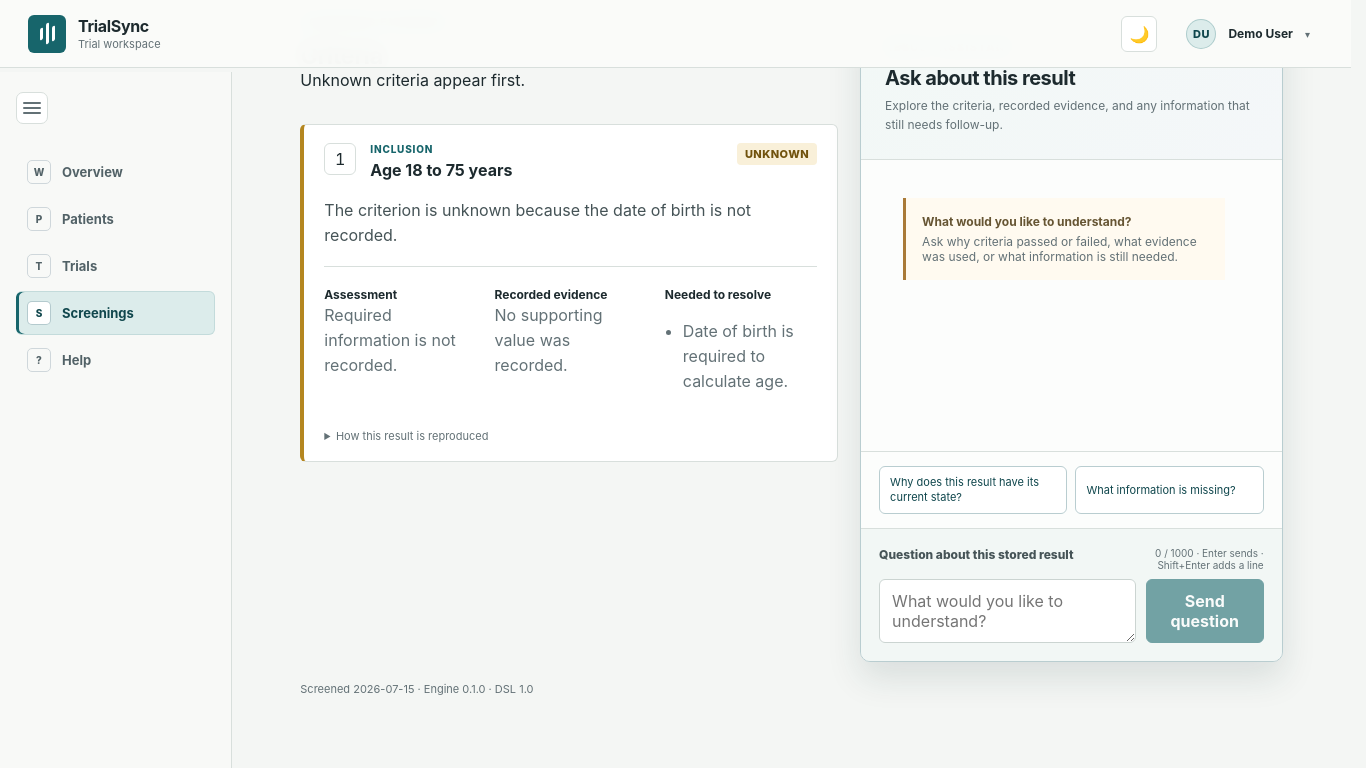
Test: TrialSync Phase 5 screening workflow › posts only the current question and appends the grounded response
The image size is (1366, 768).
(page scrolled)
Type "Why is age unresolved?" into the text box labelled "Question about this stored result" at (1007, 611), box [879, 579, 1136, 643]
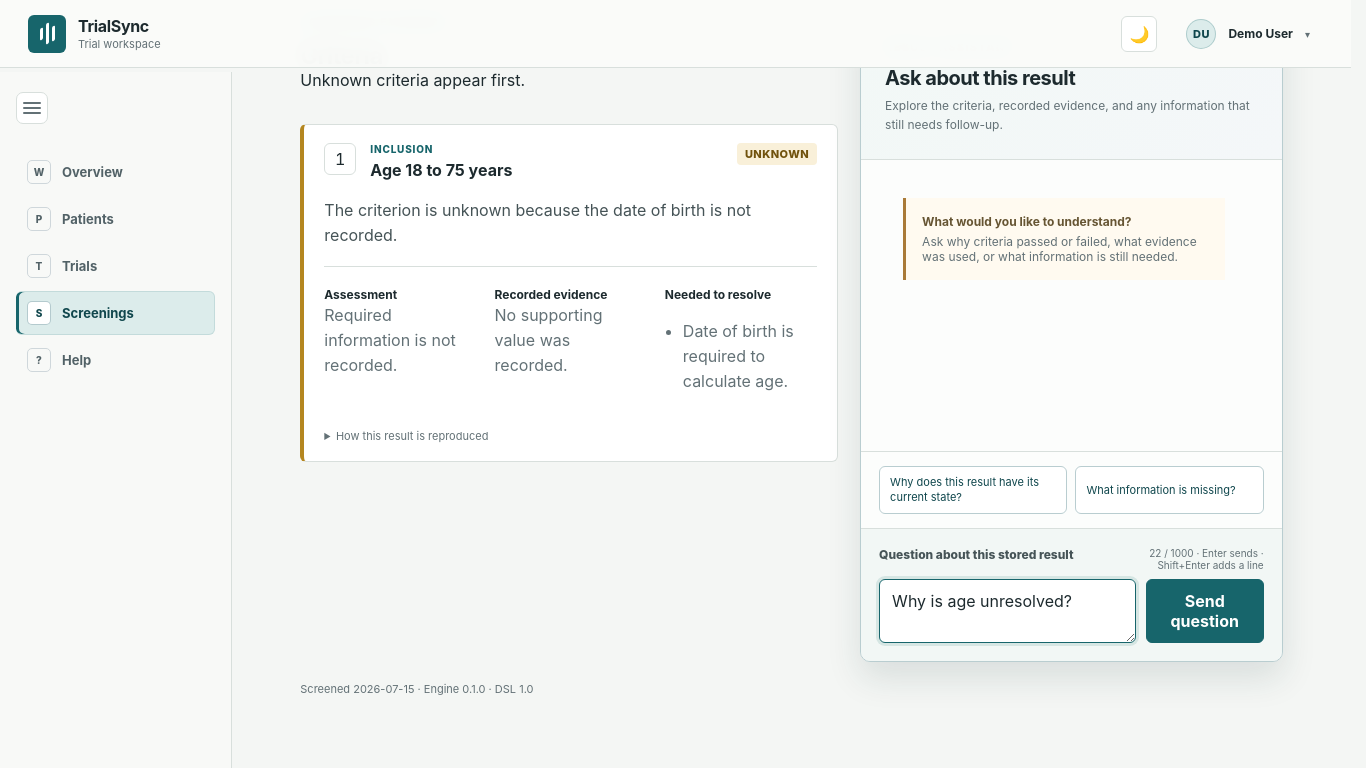
Click the button "Send question" at (1205, 611), box [1146, 579, 1264, 643]
(page scrolled)
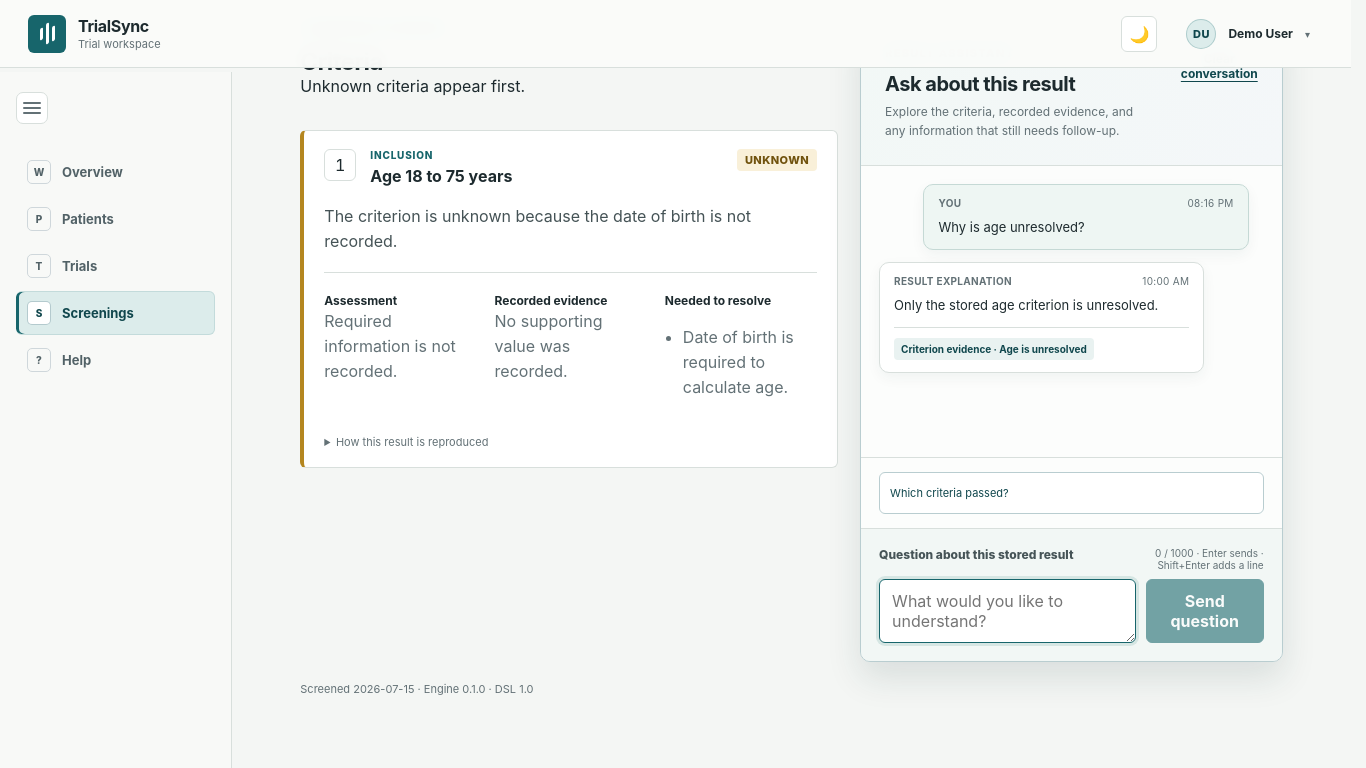
Check: the text "Only the stored age criterion is unresolved." is shown, box [894, 295, 1189, 315]
